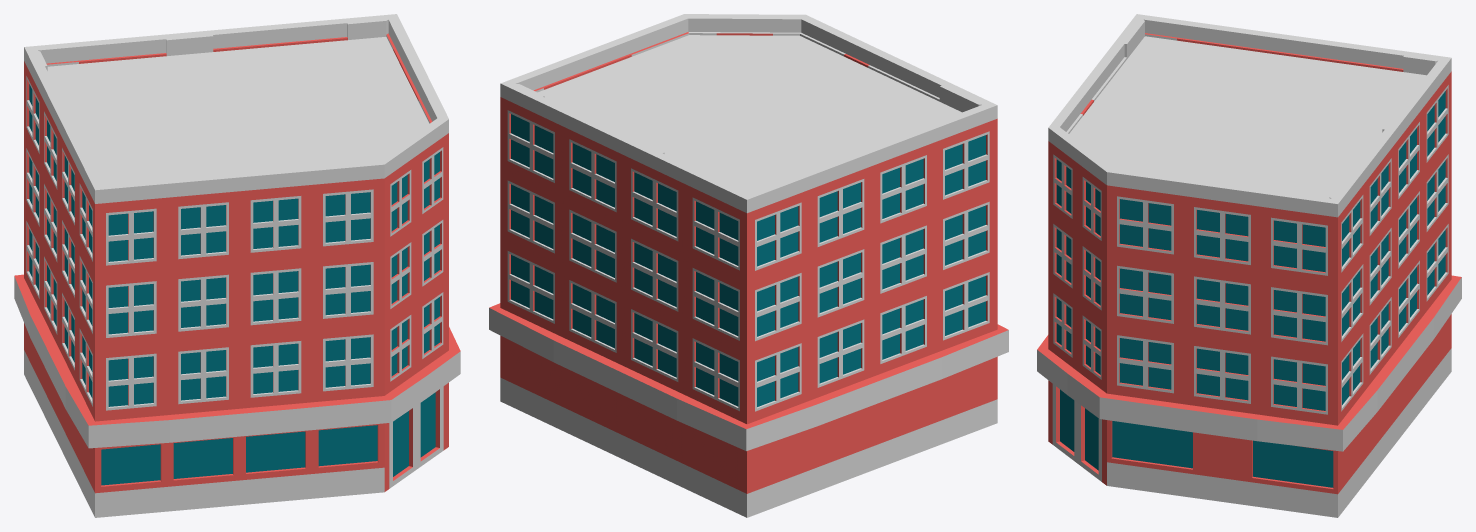
The picture shows the model from 3 angles, left to right: view 1: azimuth 30°, elevation 25°; view 2: azimuth 150°, elevation 25°; view 3: azimuth 270°, elevation 25°; orthographic projection. The views are drawn at different scales.
Parts seen in each view (by area): view 1: 9; view 2: 9; view 3: 9.
Boxes of the visible parts, left/top/right/bottom form: 9: left=14, top=14, right=460, bottom=517; 9: left=489, top=14, right=1008, bottom=517; 9: left=1037, top=14, right=1461, bottom=517.
Bounding box in the file's own units: 2836 × 2088 × 2562.
